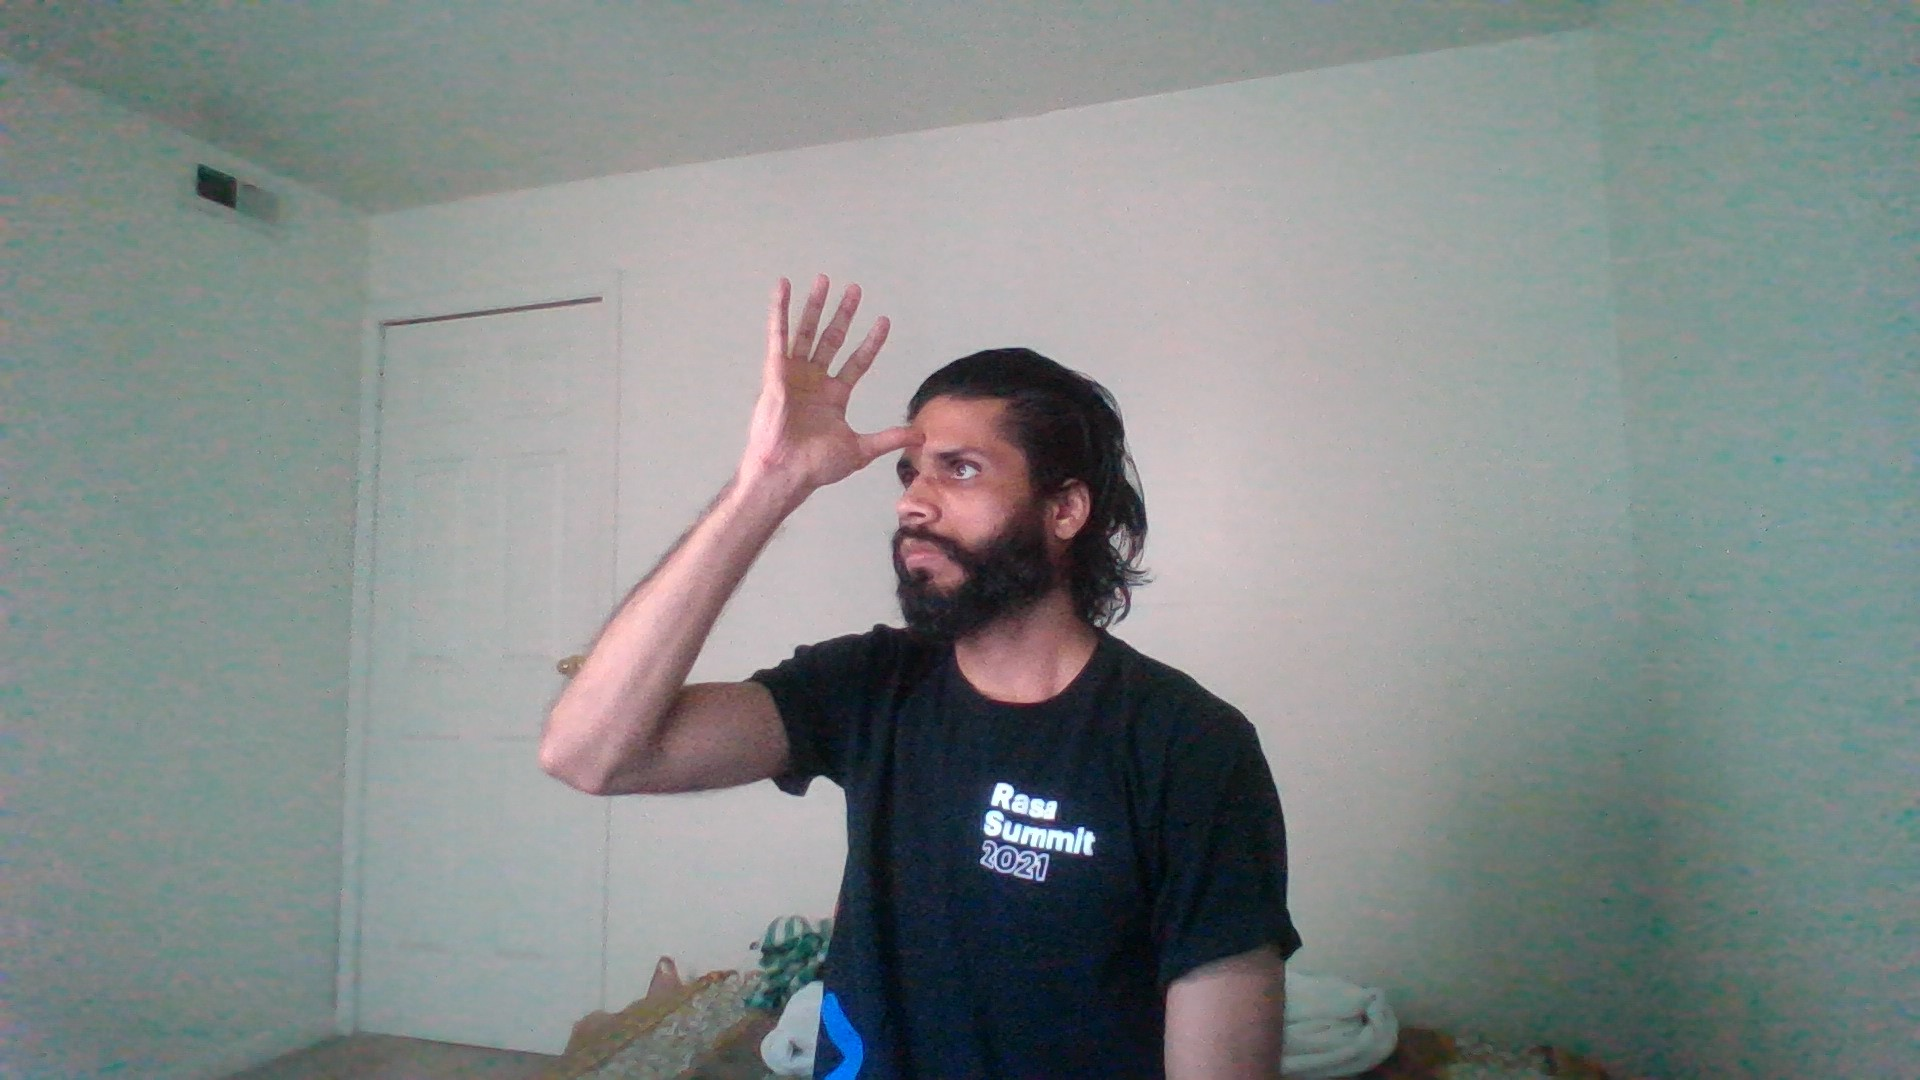Dad: (688, 252, 984, 562)
